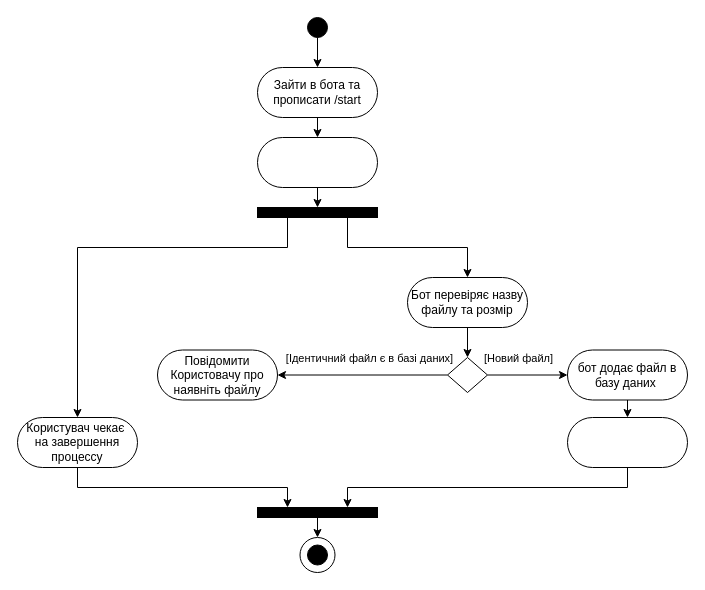
The diagram is 705 pixels wide and 590 high, and some of its shapes have lost their labels. The shapes that lost their labels are listed below. From the top down, each one's centre as x and y in pixels, then its label:
At pixel 317 162: "Додати файл формату mp3 чи ogg в чат бота".
At pixel 627 442: "Повідомити Користовачу про додавання файлу".
